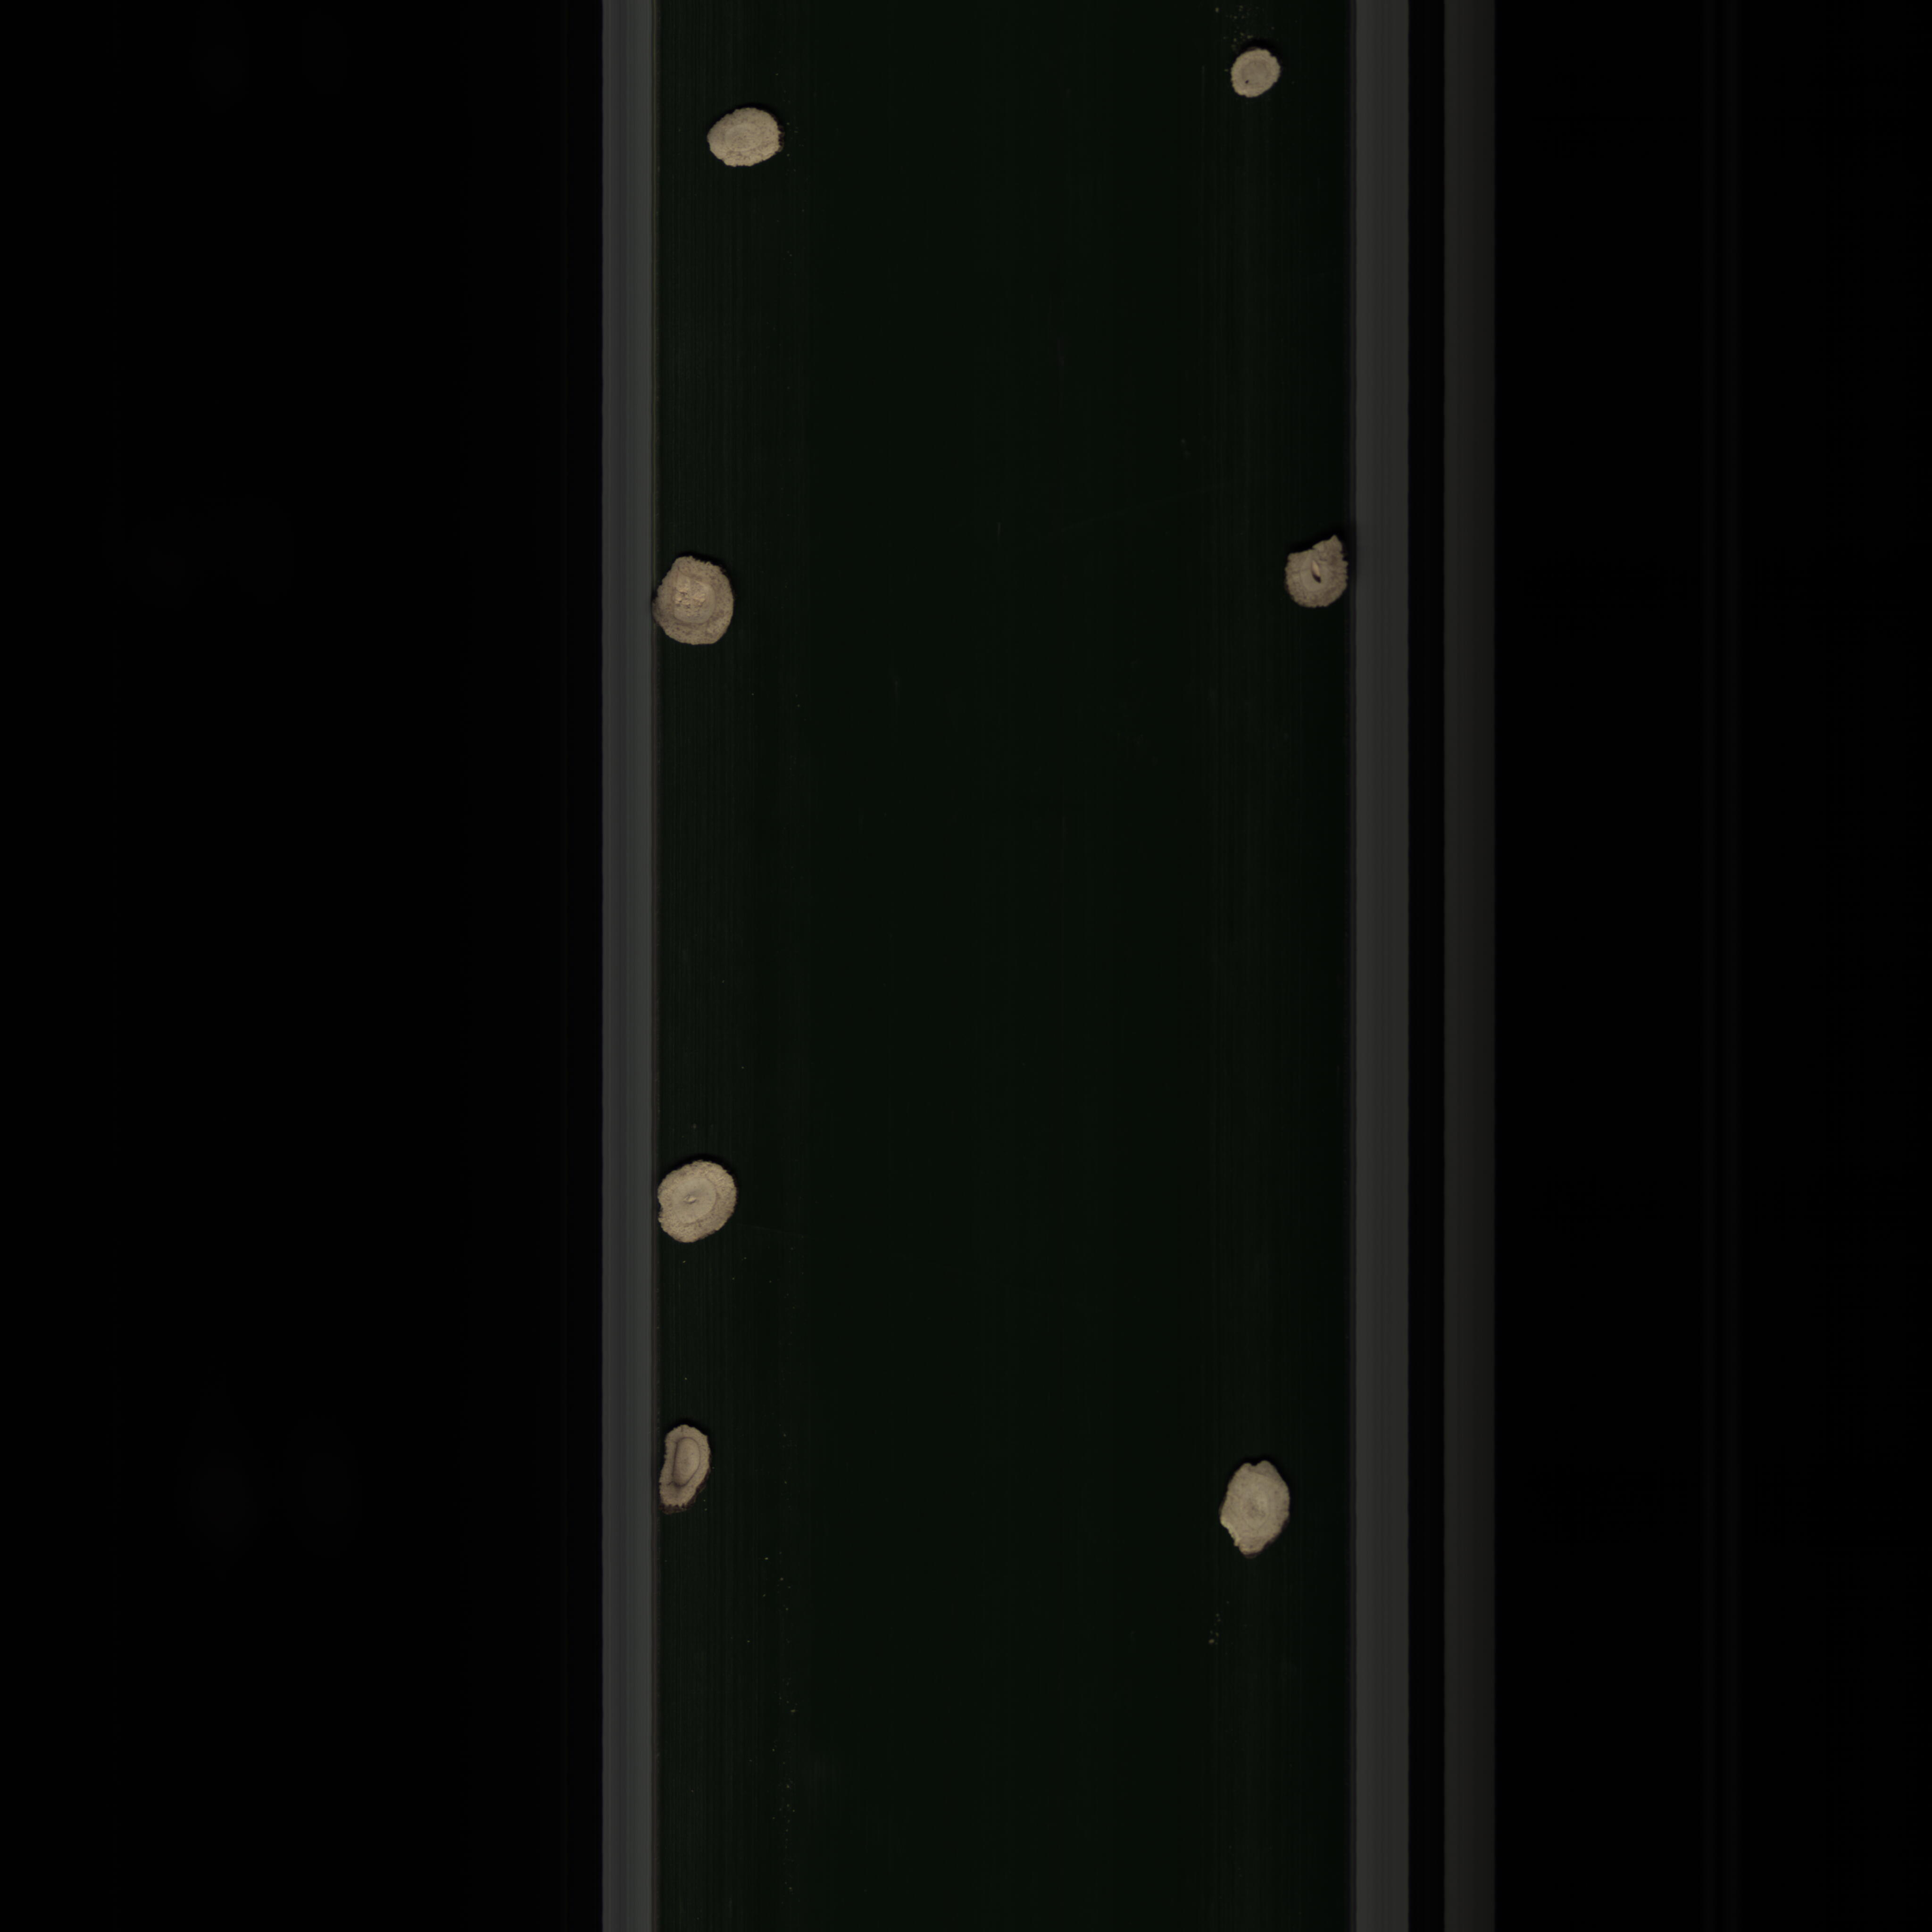debris: (1219, 1447, 1313, 1568), (1276, 529, 1353, 625)
moldy: (658, 1415, 717, 1522)
